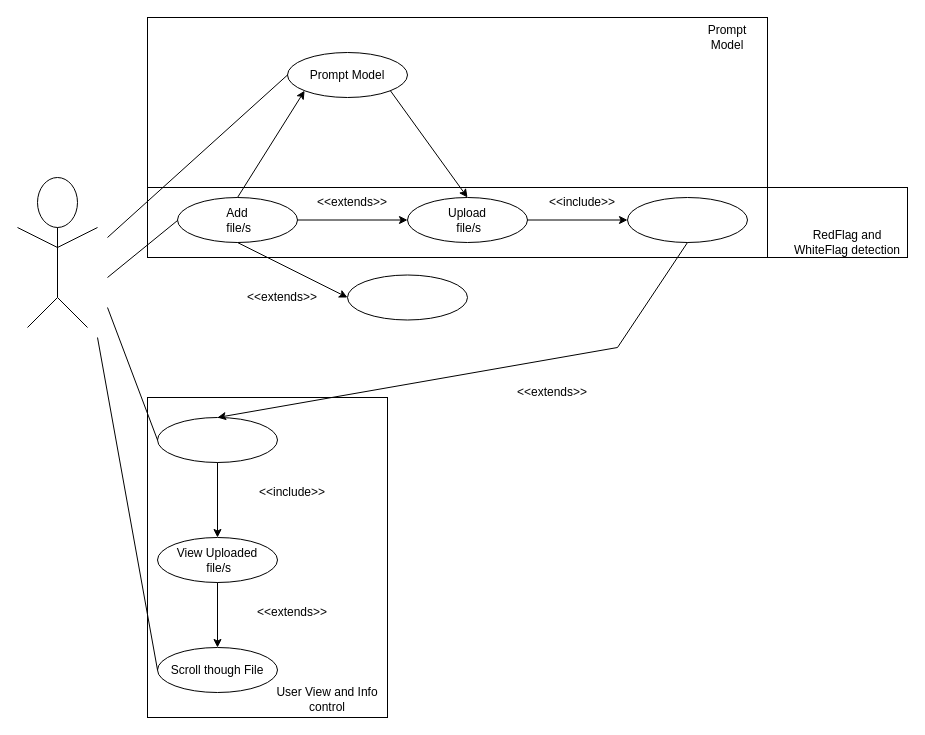
Image size: 925x735. Some labels were removed from this diagram. The box of each missing label's shape, as (x1, y1, x2, y2) in pixels:
Generate insights: (626, 196, 748, 242)
Remove Files: (346, 274, 468, 320)
View file information: (156, 416, 278, 462)
